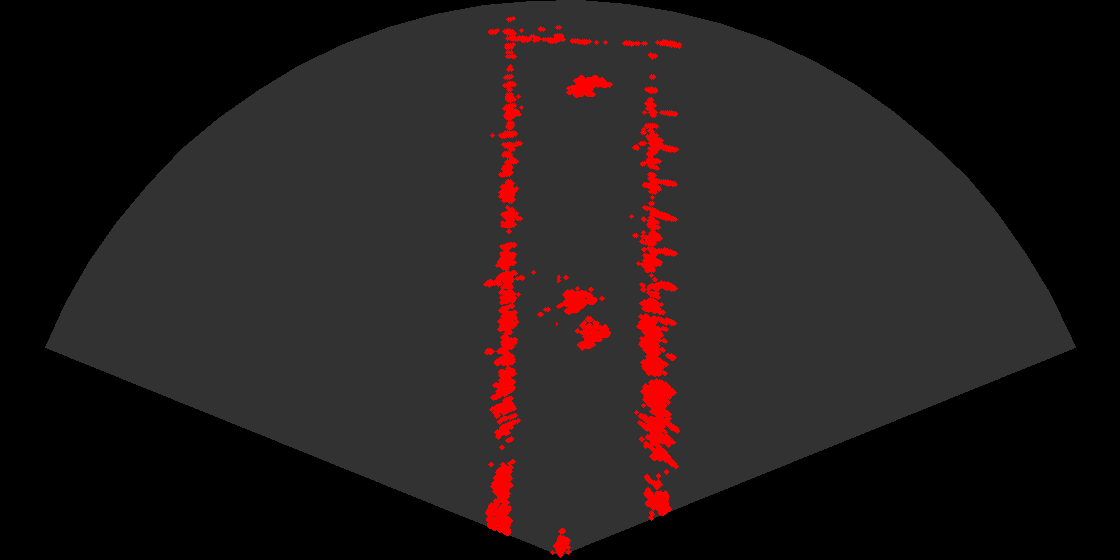AUV: (560, 73, 616, 105)
cage: (556, 275, 619, 359)
